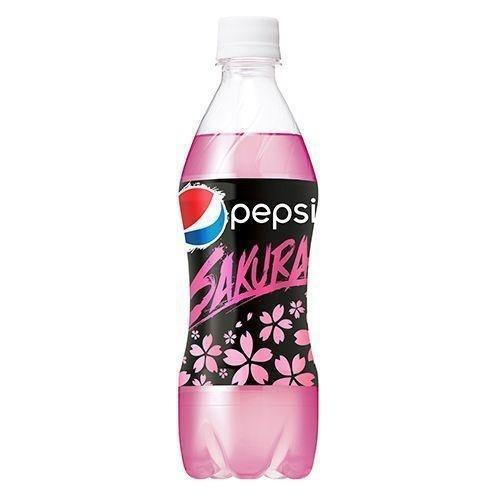bottle-plastic: (173, 10, 322, 488)
